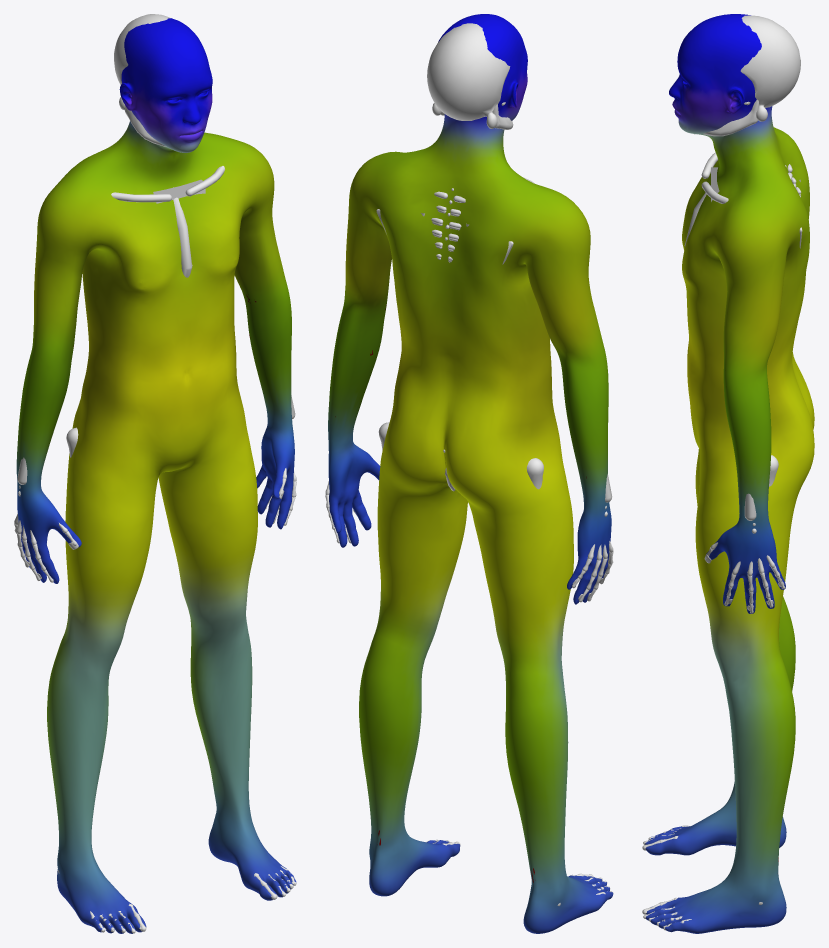
The model's file is pft-anatomy.glb.
3 renders of one model, left to right at view 1: azimuth 30°, elevation 25°; view 2: azimuth 150°, elevation 25°; view 3: azimuth 270°, elevation 25°, orthographic.
Parts seen in each view (by area): view 1: Skin, Bones; view 2: Skin, Bones; view 3: Skin, Bones.
Part boxes in pixels (left/top/right/bottom): Skin: left=16, top=18, right=296, bottom=933; Bones: left=14, top=14, right=296, bottom=933; Skin: left=328, top=14, right=613, bottom=933; Bones: left=325, top=23, right=613, bottom=906; Skin: left=645, top=14, right=814, bottom=933; Bones: left=642, top=15, right=802, bottom=930.
Bounding box in the file's own units: 0.5714 × 1.71 × 0.3068.
